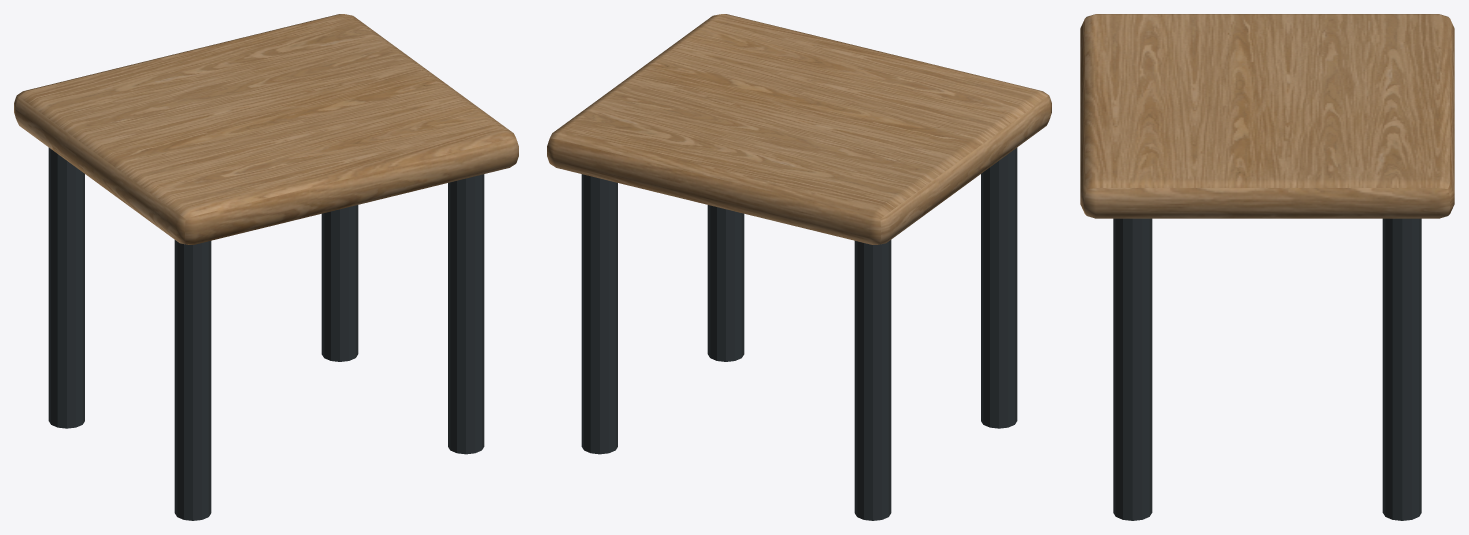
The model's file is side_table_black.glb.
3 views of the same model, side by side, from view 1: azimuth 30°, elevation 25°; view 2: azimuth 150°, elevation 25°; view 3: azimuth 270°, elevation 25° (orthographic). The views are drawn at different scales.
Visible parts, largest first — view 1: tabletop, table leg, table leg.002, table leg.001, table leg.003; view 2: tabletop, table leg.001, table leg.003, table leg, table leg.002; view 3: tabletop, table leg.002, table leg.003.
Boxes of the visible parts, x1=… form: tabletop: x1=14, y1=14, x2=518, y2=244; table leg: x1=174, y1=240, x2=211, y2=520; table leg.002: x1=448, y1=174, x2=484, y2=454; table leg.001: x1=48, y1=147, x2=84, y2=428; table leg.003: x1=321, y1=205, x2=358, y2=361; tabletop: x1=547, y1=14, x2=1051, y2=244; table leg.001: x1=854, y1=240, x2=891, y2=520; table leg.003: x1=581, y1=174, x2=617, y2=454; table leg: x1=981, y1=147, x2=1017, y2=428; table leg.002: x1=707, y1=205, x2=744, y2=361; tabletop: x1=1080, y1=14, x2=1454, y2=218; table leg.002: x1=1113, y1=218, x2=1152, y2=520; table leg.003: x1=1382, y1=218, x2=1421, y2=520.
Bounding box in the file's own units: 0.54 × 0.4875 × 0.48.
2 materials, 1 textured.
